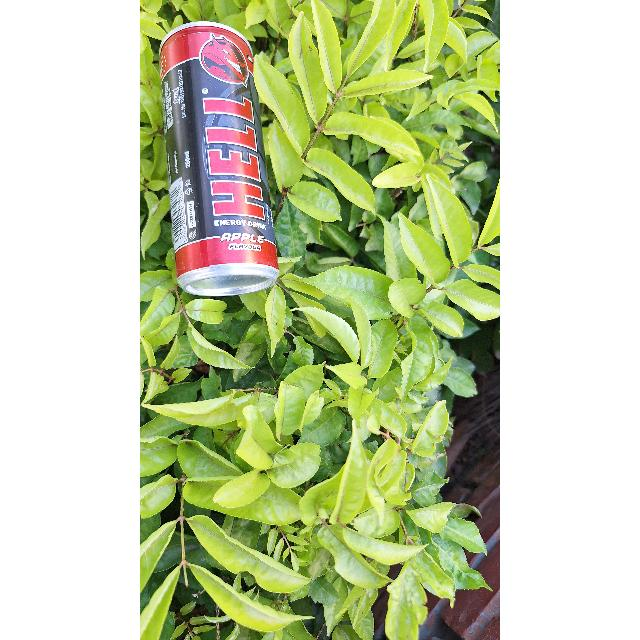Hell Apple: (153, 33, 293, 289)
